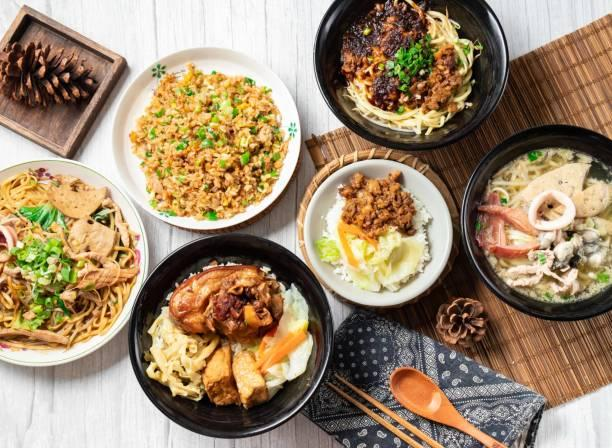Braised Crucian Carp: (128, 233, 329, 437), (111, 47, 299, 234), (0, 157, 149, 367), (313, 0, 507, 152), (460, 124, 610, 320), (301, 157, 453, 307)
